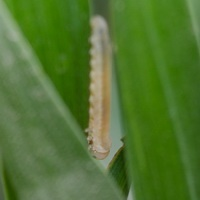insect: (85, 15, 111, 159)
